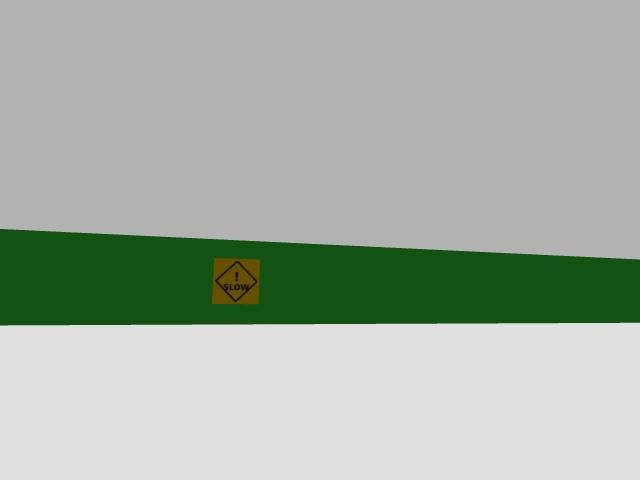slow: (213, 258, 259, 303)
